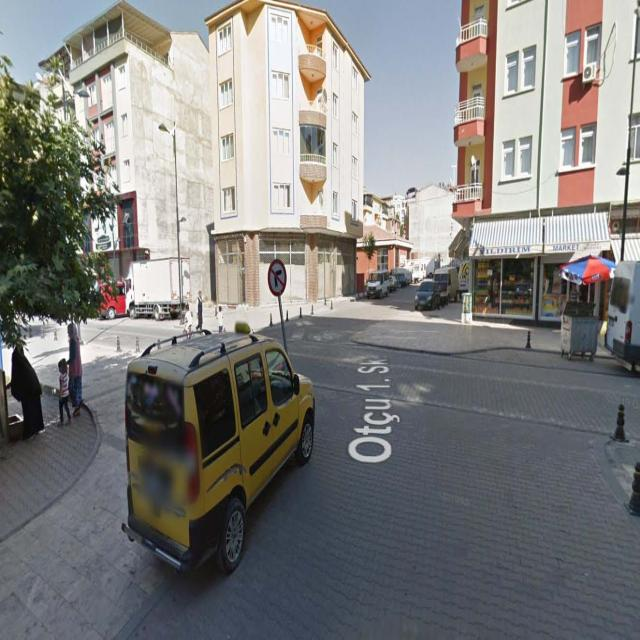sagadonulmez: (267, 258, 286, 297)
